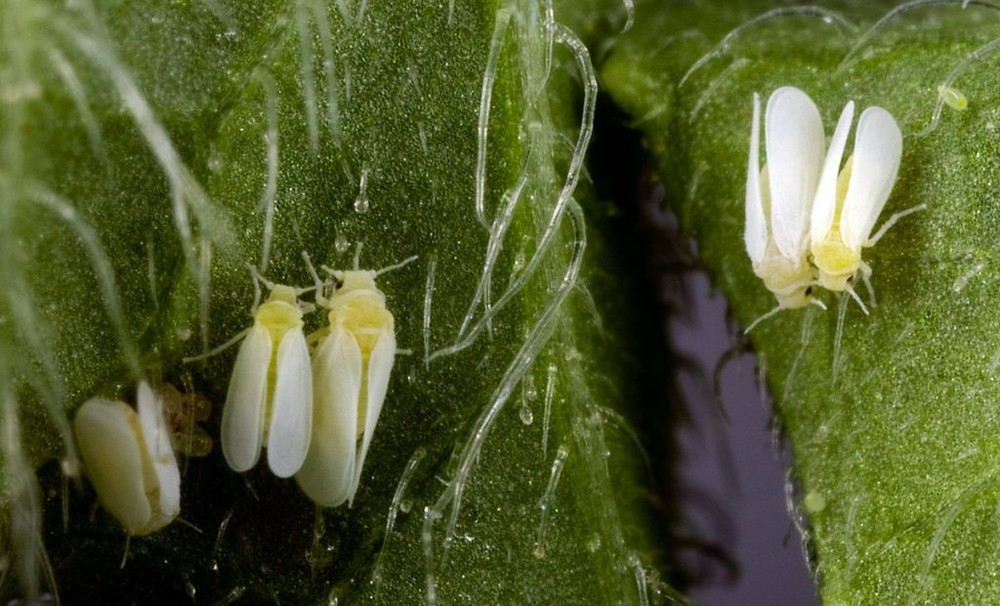Mosca Blanca: (715, 65, 839, 344), (295, 255, 421, 517), (193, 262, 329, 488), (808, 90, 927, 330), (63, 364, 197, 553)
